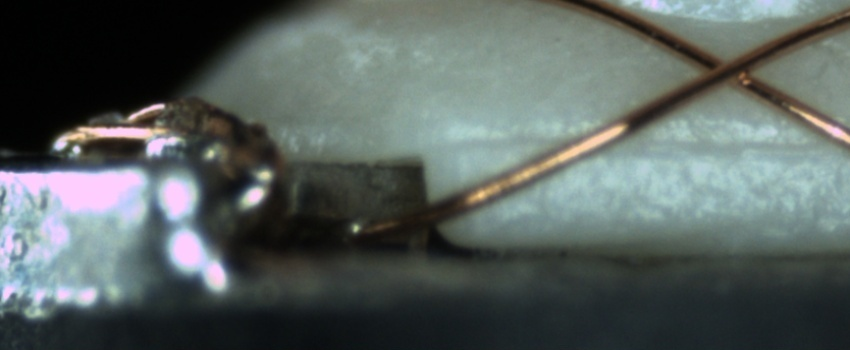CL: (681, 37, 782, 99)
DL: (453, 112, 849, 174)
TE: (48, 94, 186, 157)
